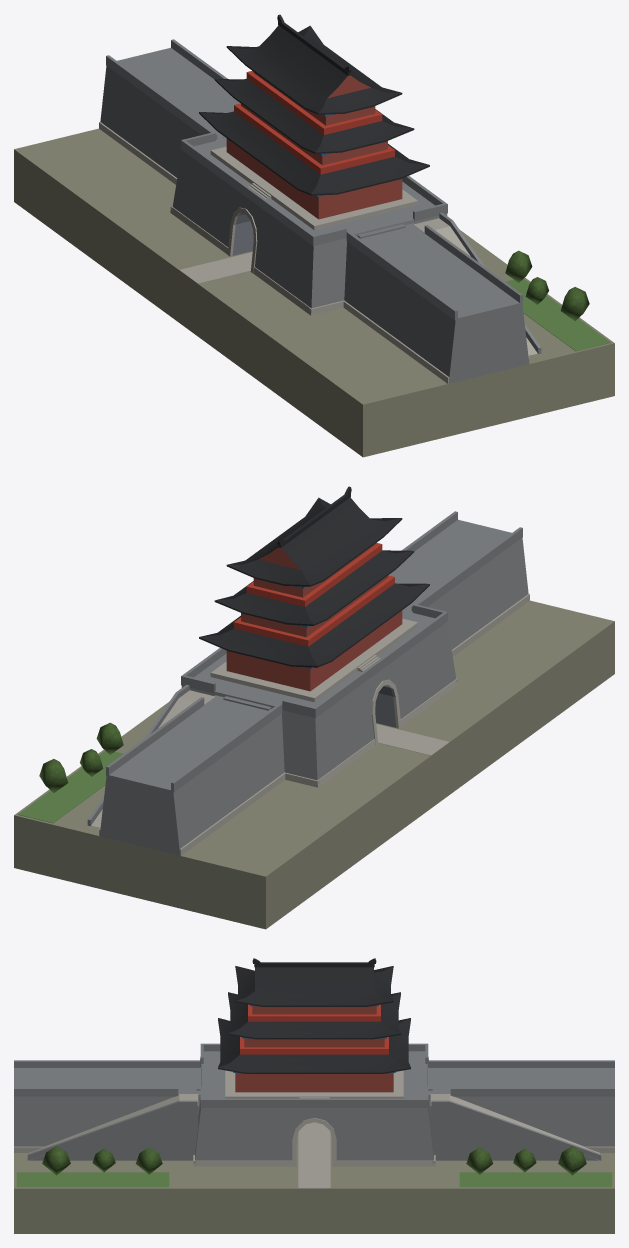
Rendered from far.fbx.
3 views of the same model, one above another, from view 1: azimuth 30°, elevation 25°; view 2: azimuth 150°, elevation 25°; view 3: azimuth 270°, elevation 25° (orthographic). The views are drawn at different scales.
Parts seen in each view (by area): view 1: landmark-city_gate_tower/0/far; view 2: landmark-city_gate_tower/0/far; view 3: landmark-city_gate_tower/0/far.
Boxes of the visible parts, bbox=[...] form: landmark-city_gate_tower/0/far: bbox=[14, 14, 614, 457]; landmark-city_gate_tower/0/far: bbox=[14, 486, 614, 929]; landmark-city_gate_tower/0/far: bbox=[14, 958, 614, 1233].
Size of the model in its own units: 50 by 49 by 120.
